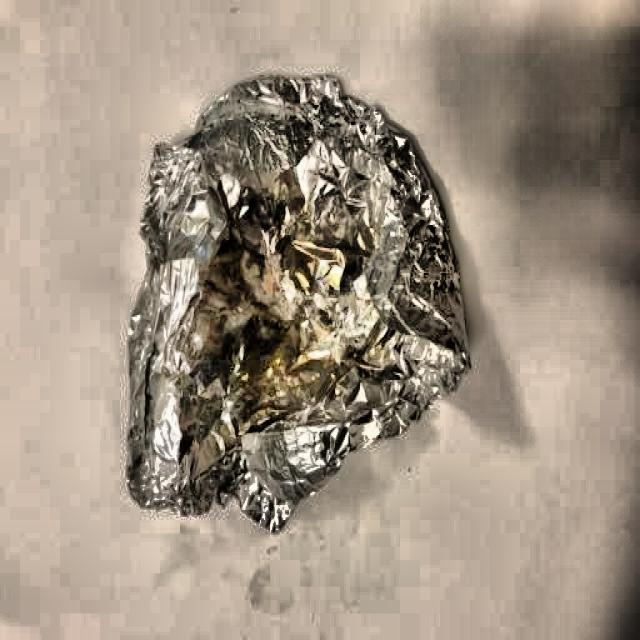metal: (127, 75, 476, 528)
